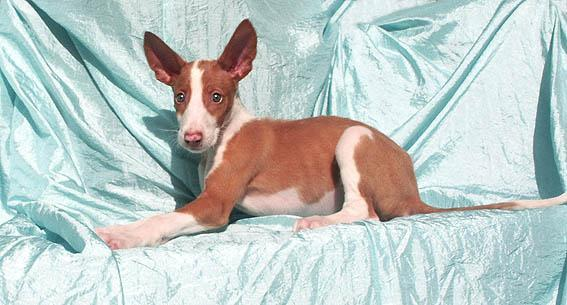Ibizan_hound: (93, 19, 566, 249)
